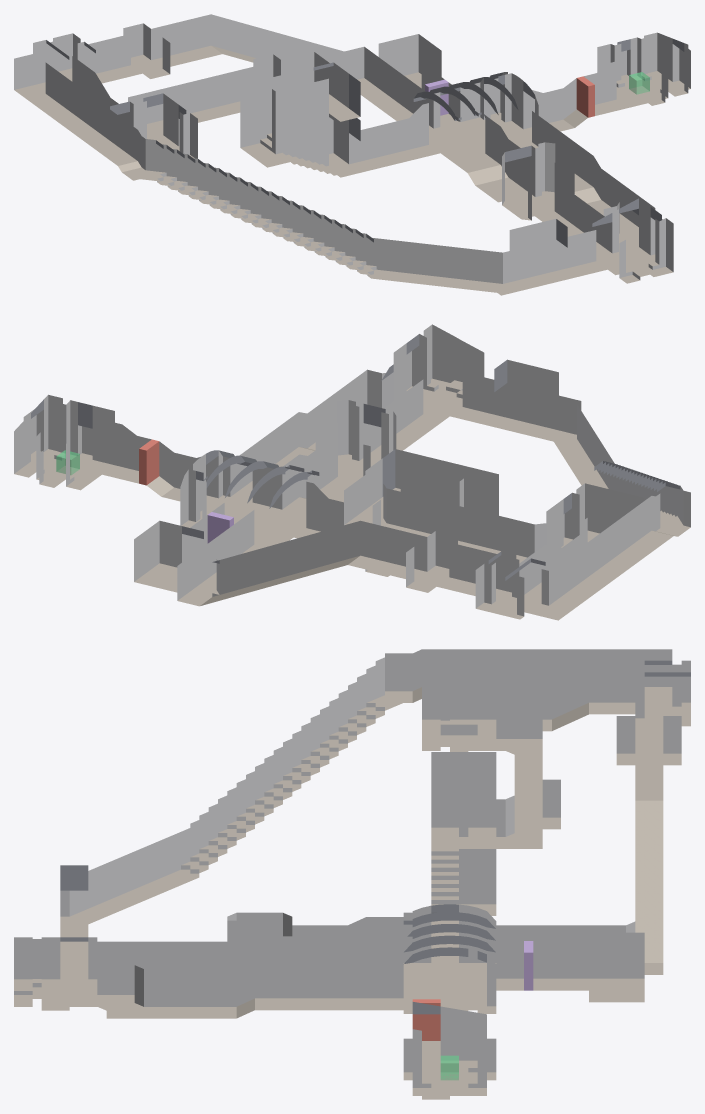
Rendered from research_06.glb.
The picture shows the model from 3 angles, top to bottom: view 1: azimuth 30°, elevation 25°; view 2: azimuth 150°, elevation 25°; view 3: azimuth 270°, elevation 25°; orthographic projection. The views are drawn at different scales.
Parts seen in each view (by area): view 1: corridor:8, corridor:9, room:7, room:1, corridor:0, corridor:7, room:2, corridor:2, room:4, room:3, corridor:6, room:6 (+18 smaller); view 2: corridor:8, corridor:9, corridor:0, room:1, room:7, room:2, corridor:7, room:4, room:6, room:0, room:3, corridor:2 (+17 smaller); view 3: corridor:8, corridor:7, corridor:9, room:7, room:1, corridor:0, room:0, corridor:4, room:2, room:4, corridor:2, corridor:5 (+10 smaller).
Boxes of the visible parts, left/top/right/bottom form: corridor:8: left=14, top=52, right=607, bottom=295; corridor:9: left=84, top=14, right=433, bottom=129; room:7: left=240, top=62, right=360, bottom=177; room:1: left=413, top=72, right=538, bottom=161; corridor:0: left=128, top=52, right=333, bottom=138; corridor:7: left=518, top=111, right=655, bottom=246; room:2: left=597, top=32, right=688, bottom=107; corridor:2: left=452, top=115, right=531, bottom=202; room:4: left=592, top=198, right=673, bottom=283; room:3: left=502, top=142, right=574, bottom=220; corridor:6: left=349, top=118, right=420, bottom=172; room:6: left=378, top=34, right=441, bottom=88; corridor:8: left=450, top=359, right=690, bottom=620; corridor:9: left=177, top=510, right=501, bottom=606; corridor:0: left=344, top=475, right=546, bottom=563; room:1: left=180, top=450, right=314, bottom=547; room:7: left=365, top=449, right=498, bottom=576; room:2: left=14, top=394, right=114, bottom=490; corridor:7: left=230, top=369, right=393, bottom=502; room:4: left=393, top=324, right=484, bottom=419; room:6: left=134, top=520, right=203, bottom=592; room:0: left=546, top=483, right=644, bottom=547; room:3: left=315, top=400, right=396, bottom=484; corridor:2: left=282, top=437, right=370, bottom=515; corridor:8: left=60, top=649, right=672, bottom=979; corridor:7: left=98, top=957, right=403, bottom=1018; corridor:9: left=496, top=716, right=681, bottom=974; room:7: left=431, top=752, right=496, bottom=915; room:1: left=403, top=904, right=496, bottom=1013; corridor:0: left=496, top=701, right=560, bottom=848; room:0: left=422, top=669, right=505, bottom=750; corridor:4: left=505, top=665, right=635, bottom=731; room:2: left=412, top=1002, right=486, bottom=1095; room:4: left=14, top=937, right=97, bottom=1006; corridor:2: left=292, top=917, right=403, bottom=960; corridor:5: left=496, top=941, right=588, bottom=990.
Bounding box in the file's own units: 86 × 16 × 73.
